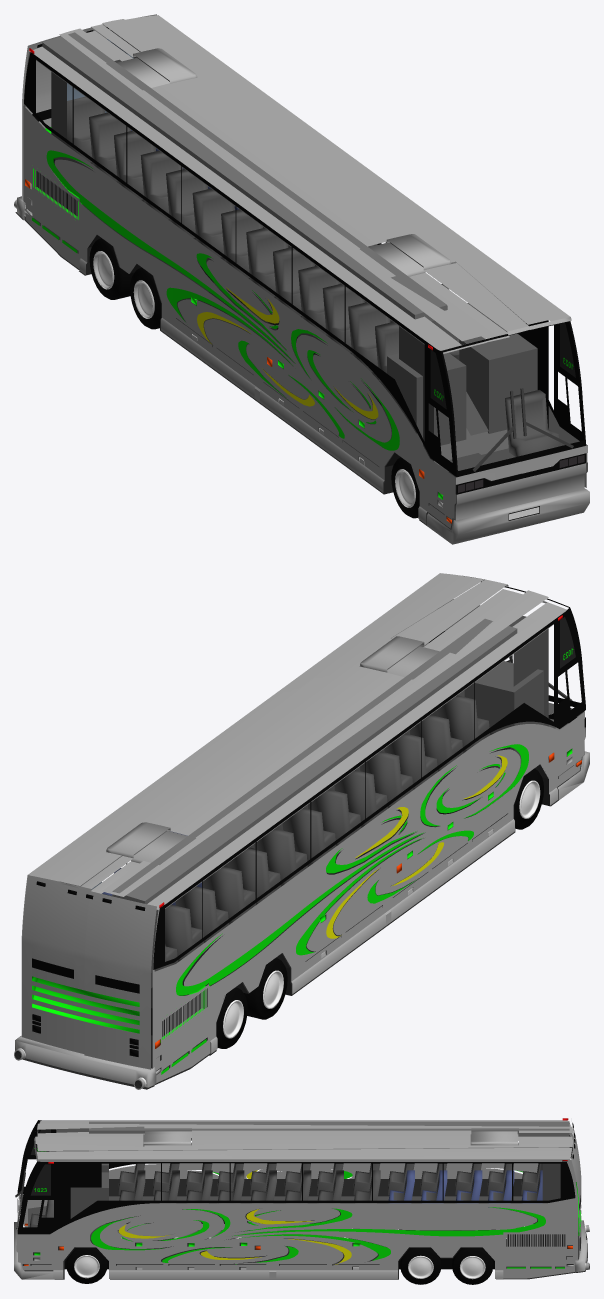
The picture shows the model from 3 angles, top to bottom: view 1: azimuth 30°, elevation 25°; view 2: azimuth 150°, elevation 25°; view 3: azimuth 270°, elevation 25°; orthographic projection. The views are drawn at different scales.
Visible parts, largest first — view 1: Mesh_66_1 (×2), instance_3, instance_4, Box002, Box (×3), group_6, group_7, group_5; view 2: Mesh_66_1 (×2), instance_3, instance_4, Box002, Box, group_7, group_6, group_5; view 3: Mesh_66_1 (×2), instance_3, instance_4, Box002, Box (×2), group_4, group_2, group_3, Box001.
Boxes of the visible parts, x1,y1,x2,y2 form: Mesh_66_1 (×2): [17, 15, 587, 528]; instance_3: [51, 14, 589, 528]; instance_4: [14, 27, 524, 544]; Box002: [42, 32, 447, 321]; Box (×3): [387, 328, 537, 474]; group_6: [89, 238, 134, 299]; group_7: [130, 267, 161, 329]; group_5: [391, 457, 419, 518]; Mesh_66_1 (×2): [15, 573, 584, 1087]; instance_3: [14, 576, 555, 1074]; instance_4: [79, 587, 589, 1089]; Box002: [112, 618, 517, 904]; Box: [464, 661, 543, 768]; group_7: [243, 958, 287, 1019]; group_6: [216, 987, 247, 1048]; group_5: [514, 768, 543, 829]; Mesh_66_1 (×2): [16, 1121, 587, 1278]; instance_3: [14, 1128, 589, 1279]; instance_4: [14, 1118, 589, 1258]; Box002: [89, 1121, 569, 1140]; Box (×2): [70, 1172, 537, 1239]; group_4: [400, 1247, 441, 1284]; group_2: [452, 1247, 493, 1284]; group_3: [66, 1247, 107, 1283]; Box001: [89, 1142, 569, 1161].
Bounding box in the file's own units: 2.88 × 4.22 × 16.82.
